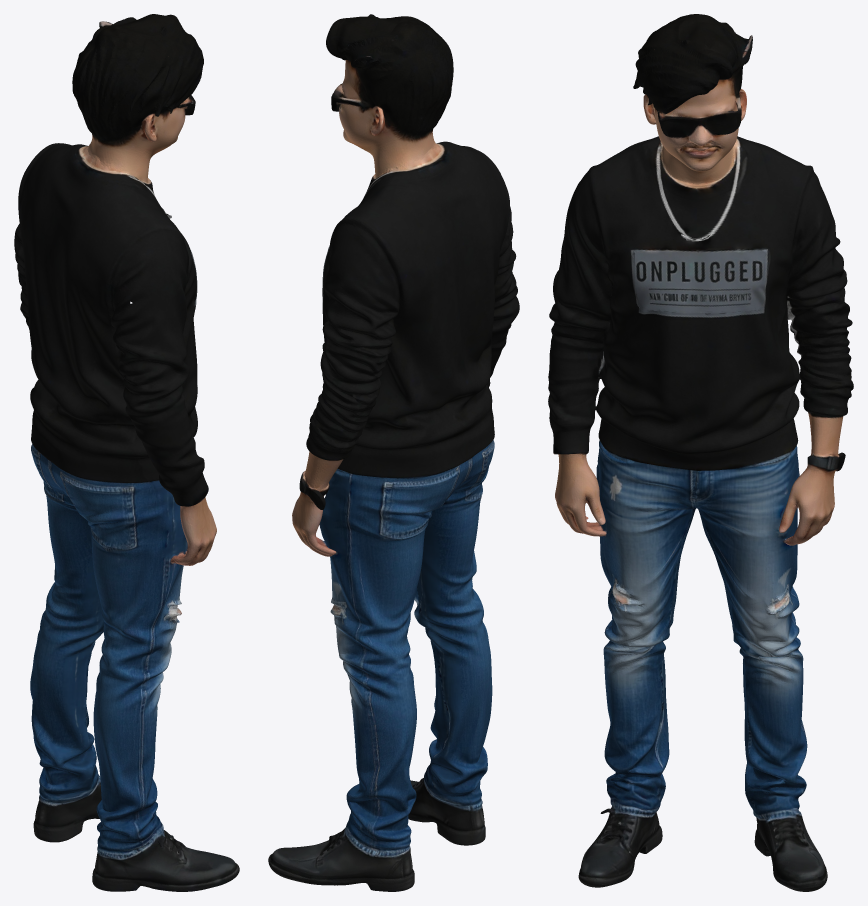
Rendered from mihir.glb.
3 renders of one model, left to right at view 1: azimuth 30°, elevation 25°; view 2: azimuth 150°, elevation 25°; view 3: azimuth 270°, elevation 25°, orthographic.
Visible parts, largest first — view 1: tripo_node_8b2a5c56-d762-4638-be81-ec438aef4fd5; view 2: tripo_node_8b2a5c56-d762-4638-be81-ec438aef4fd5; view 3: tripo_node_8b2a5c56-d762-4638-be81-ec438aef4fd5.
Part boxes in pixels (x1,y1,x2,y2): tripo_node_8b2a5c56-d762-4638-be81-ec438aef4fd5: (14, 14, 239, 891); tripo_node_8b2a5c56-d762-4638-be81-ec438aef4fd5: (268, 14, 519, 891); tripo_node_8b2a5c56-d762-4638-be81-ec438aef4fd5: (548, 14, 853, 891).
Size of the model in its own units: 0.1913 by 0.9988 by 0.3282.
Materials: 1 (1 with a texture image).
